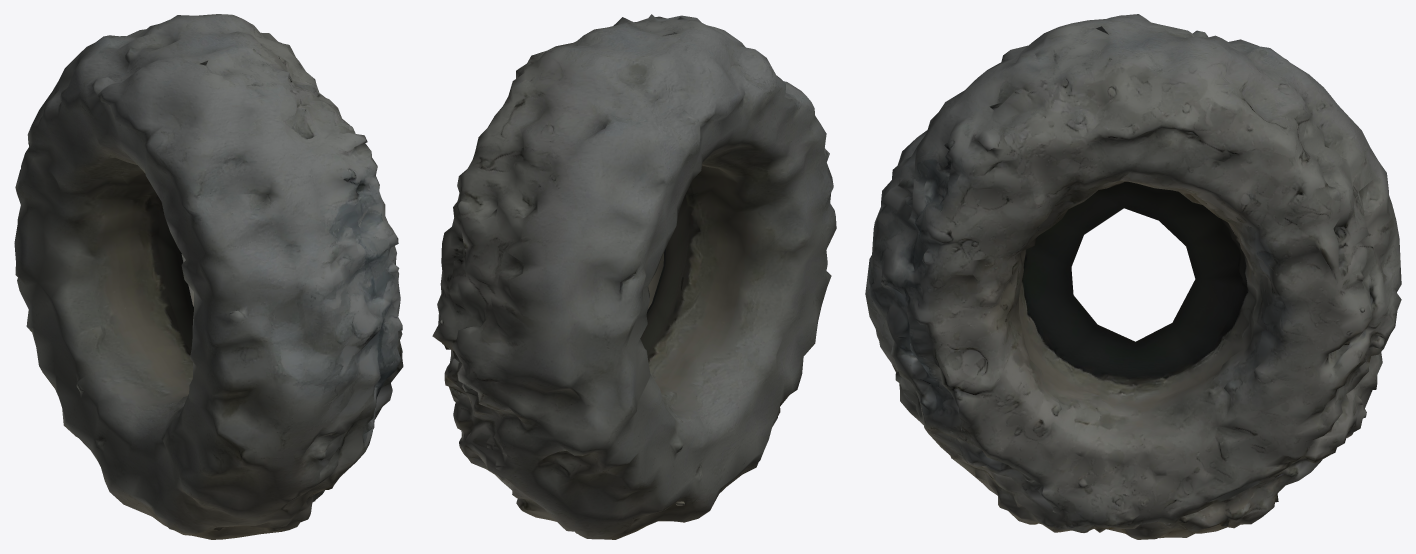
The picture shows the model from 3 angles, left to right: view 1: azimuth 30°, elevation 25°; view 2: azimuth 150°, elevation 25°; view 3: azimuth 270°, elevation 25°; orthographic projection. The views are drawn at different scales.
Parts seen in each view (by area): view 1: tripo_node_79e4527d-8260-4bfc-aed3-56e2fc76feb4; view 2: tripo_node_79e4527d-8260-4bfc-aed3-56e2fc76feb4; view 3: tripo_node_79e4527d-8260-4bfc-aed3-56e2fc76feb4.
Boxes of the visible parts, <box> form: tripo_node_79e4527d-8260-4bfc-aed3-56e2fc76feb4: <box>14,14,403,539</box>; tripo_node_79e4527d-8260-4bfc-aed3-56e2fc76feb4: <box>432,14,836,539</box>; tripo_node_79e4527d-8260-4bfc-aed3-56e2fc76feb4: <box>865,14,1401,539</box>.
Size of the model in its own units: 0.4481 by 0.998 by 0.998.
Materials: 1 (1 with a texture image).
